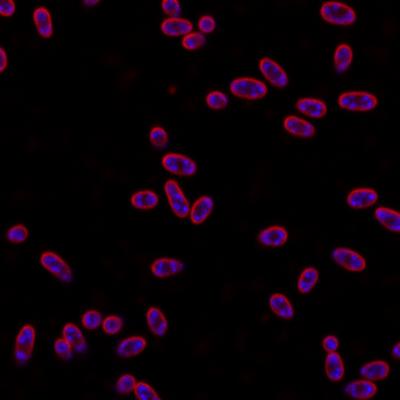MP265: (163, 179, 191, 219), (257, 57, 289, 88), (163, 152, 201, 178), (320, 1, 357, 27), (337, 89, 378, 112), (227, 77, 266, 100), (283, 113, 317, 139), (345, 186, 379, 209), (322, 350, 346, 382), (359, 359, 390, 382), (296, 96, 328, 118), (268, 292, 294, 319), (189, 195, 213, 224), (146, 306, 168, 337), (158, 16, 193, 35), (296, 267, 320, 294), (129, 189, 158, 210), (196, 13, 216, 33)
Oblique: (54, 323, 88, 362), (12, 323, 37, 371), (40, 251, 76, 284), (330, 247, 365, 273), (149, 256, 187, 278), (115, 334, 147, 360), (253, 225, 288, 248), (32, 7, 54, 41), (334, 43, 354, 75), (6, 222, 29, 245), (102, 312, 125, 334), (146, 127, 168, 149), (205, 90, 228, 110), (182, 32, 206, 49)
